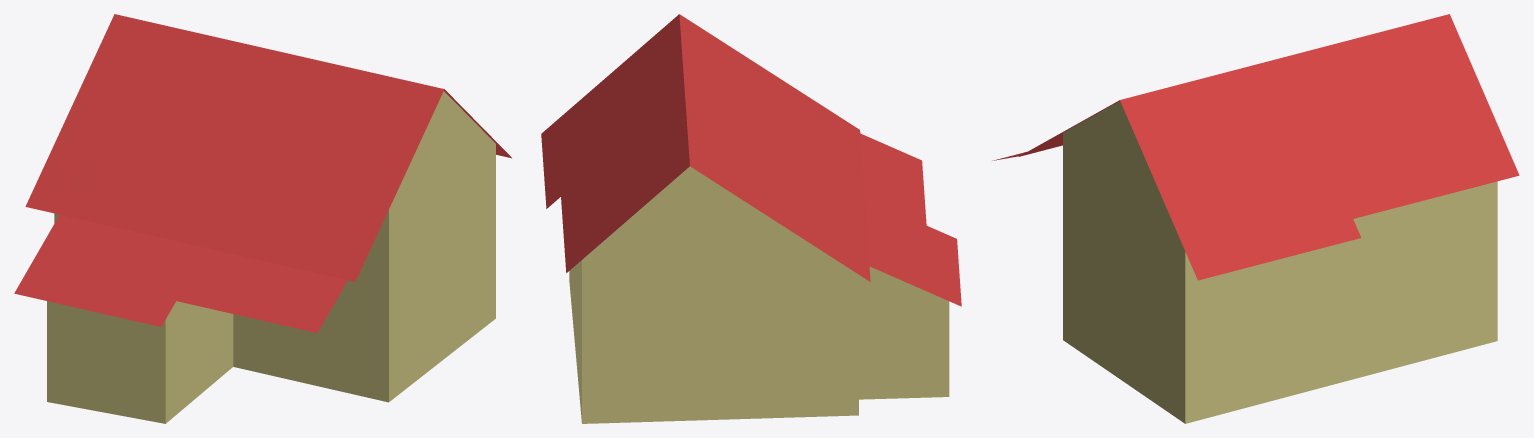
3 views of the same model, side by side, from view 1: azimuth 30°, elevation 25°; view 2: azimuth 150°, elevation 25°; view 3: azimuth 270°, elevation 25° (orthographic). The views are drawn at different scales.
Size of the model in its own units: 23.81 by 22.55 by 13.26.
